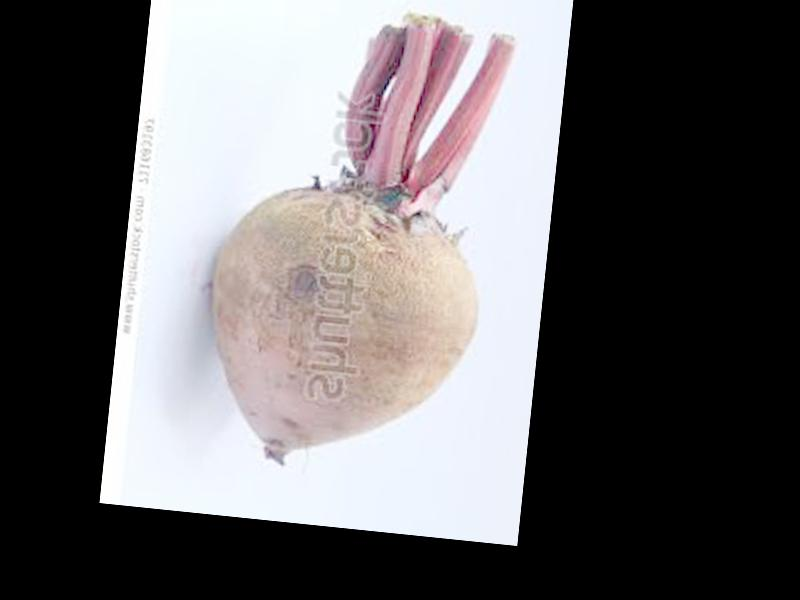Beet: (196, 4, 511, 477)
